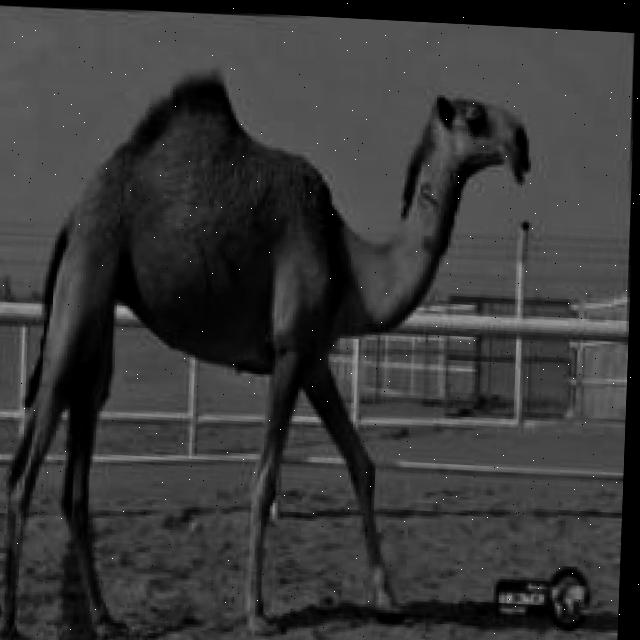Camel: (0, 60, 534, 640)
